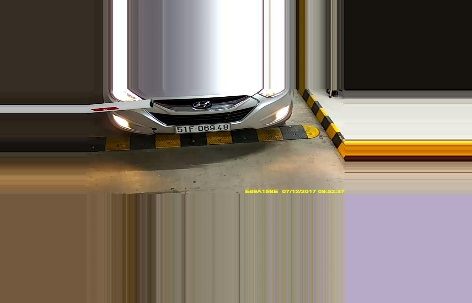plate: (170, 121, 233, 133)
